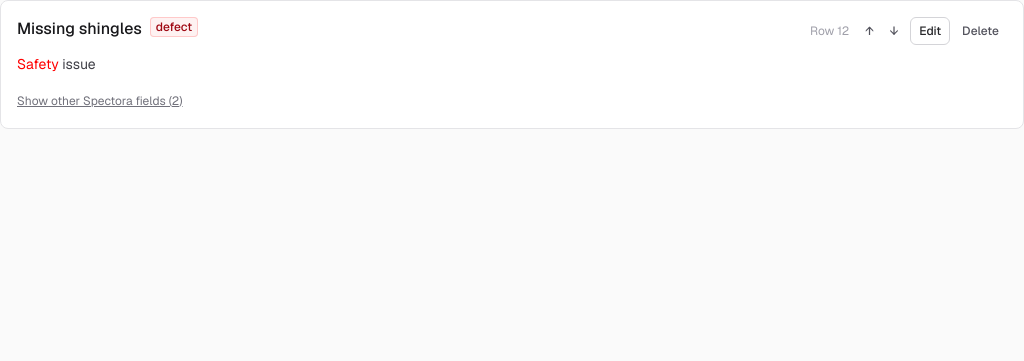
Test: CommentCard — editing › asks before discarding unsaved changes
The width and height of the screenshot is (1024, 361).
Click the button "Edit" at (930, 31), box x1=910 y1=17 x2=950 y2=45
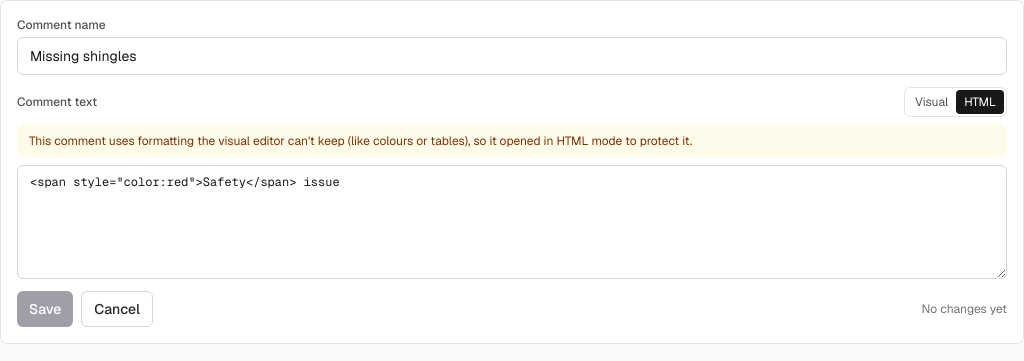
Type "!" into the field labelled "Comment name" at (512, 56), box x1=17 y1=37 x2=1007 y2=75
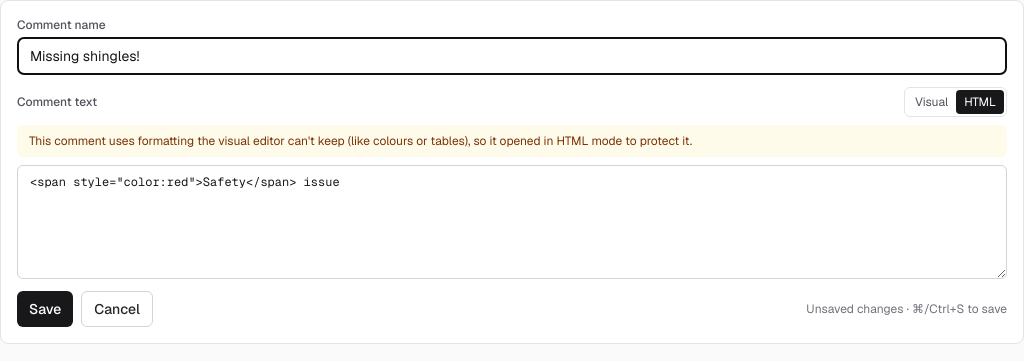
Click the button "Cancel" at (117, 309), box x1=81 y1=291 x2=153 y2=327
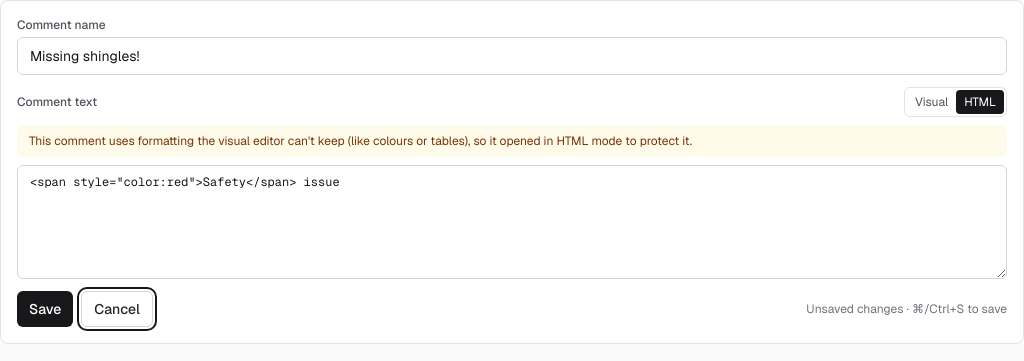
Expected: the field labelled "Comment name" is shown, x1=17 y1=37 x2=1007 y2=75
Click the button "Cancel" at (117, 309), box x1=81 y1=291 x2=153 y2=327
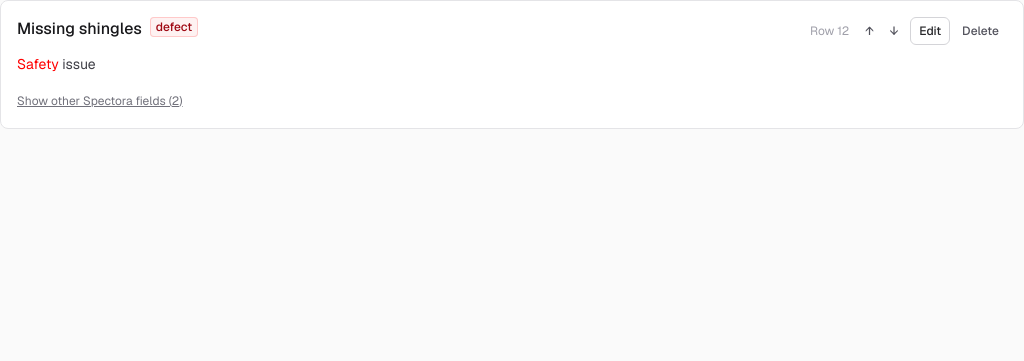
Expected: the heading "Missing shingles" is shown, x1=17 y1=17 x2=142 y2=41
